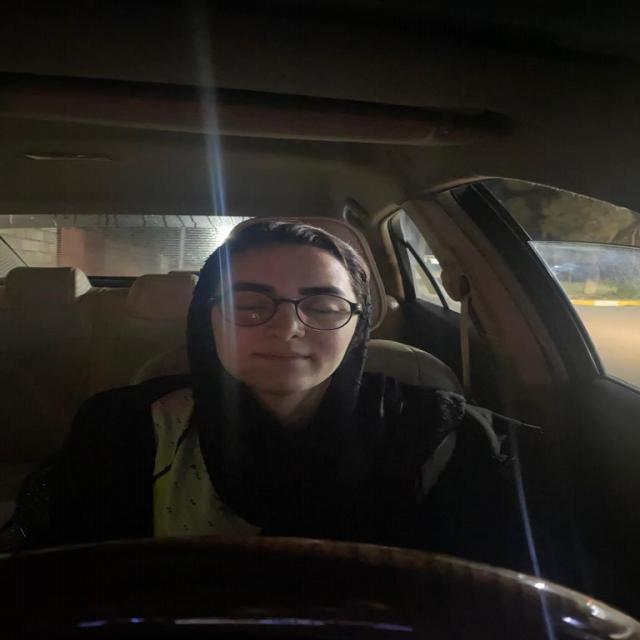drowsy: (182, 212, 387, 401)
